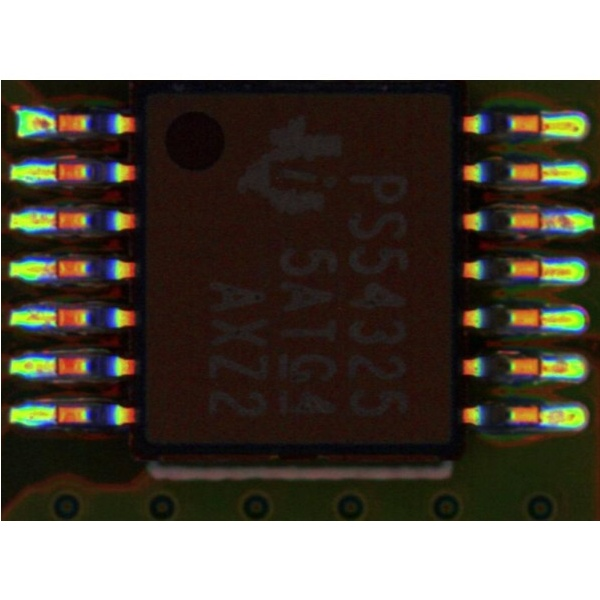Bad_podu: (522, 360, 558, 373), (524, 264, 561, 276), (522, 312, 561, 323), (523, 213, 558, 225), (519, 166, 559, 176), (39, 213, 69, 226), (521, 119, 557, 129), (39, 261, 69, 273), (41, 165, 69, 177), (39, 311, 69, 322)
